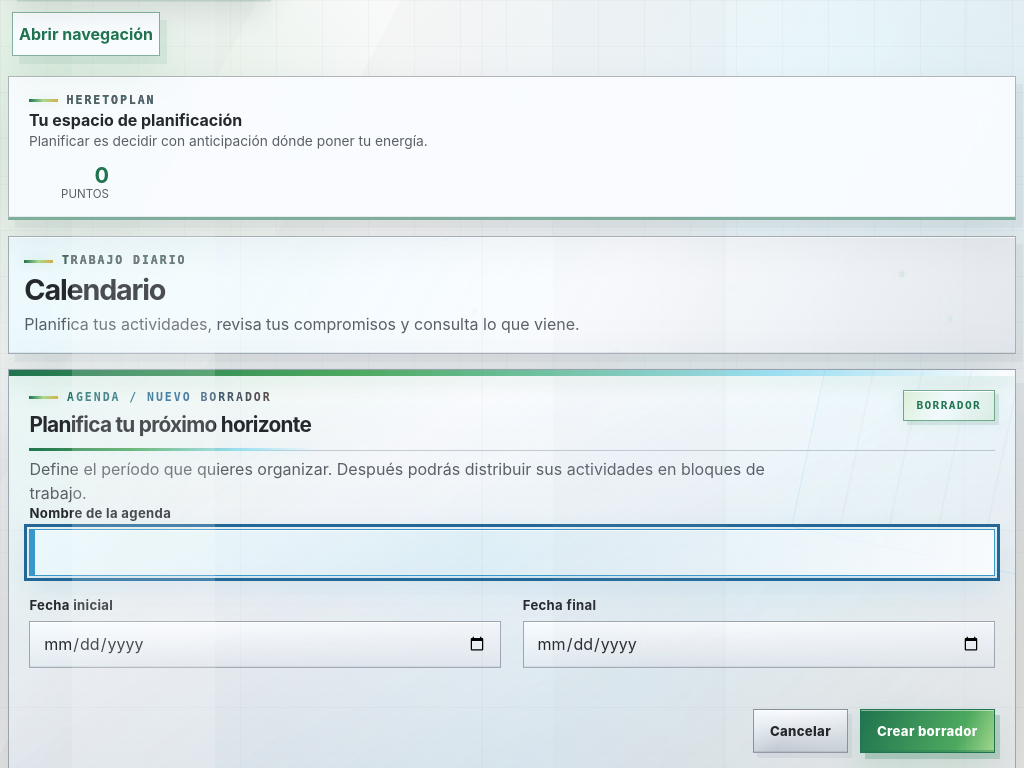
Test: interfaz de agenda borrador › permite cancelar la creación y limpia el formulario
expect the heading "Planifica tu próximo horizonte" is shown: met, box [30,413,311,438]
Step 1. Type "Agenda temporal" into the field labelled "Nombre de la agenda" → (512, 552), box [30,529,995,576]
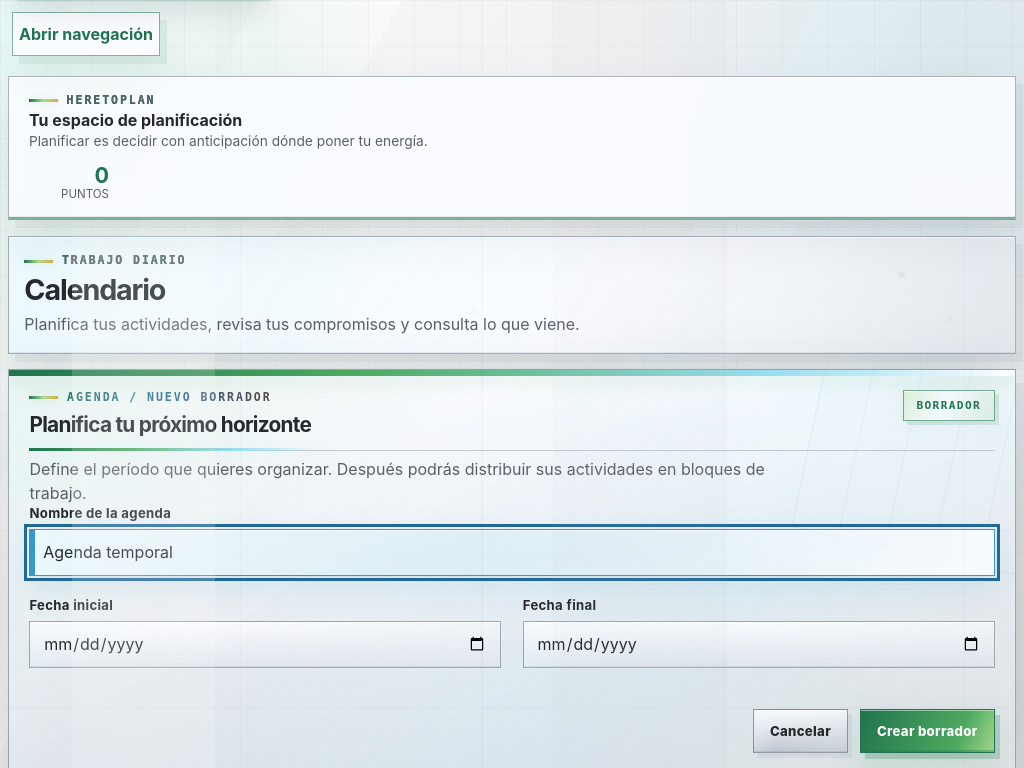
Step 2. Click the button "Cancelar" → (800, 731), box [753,709,848,753]
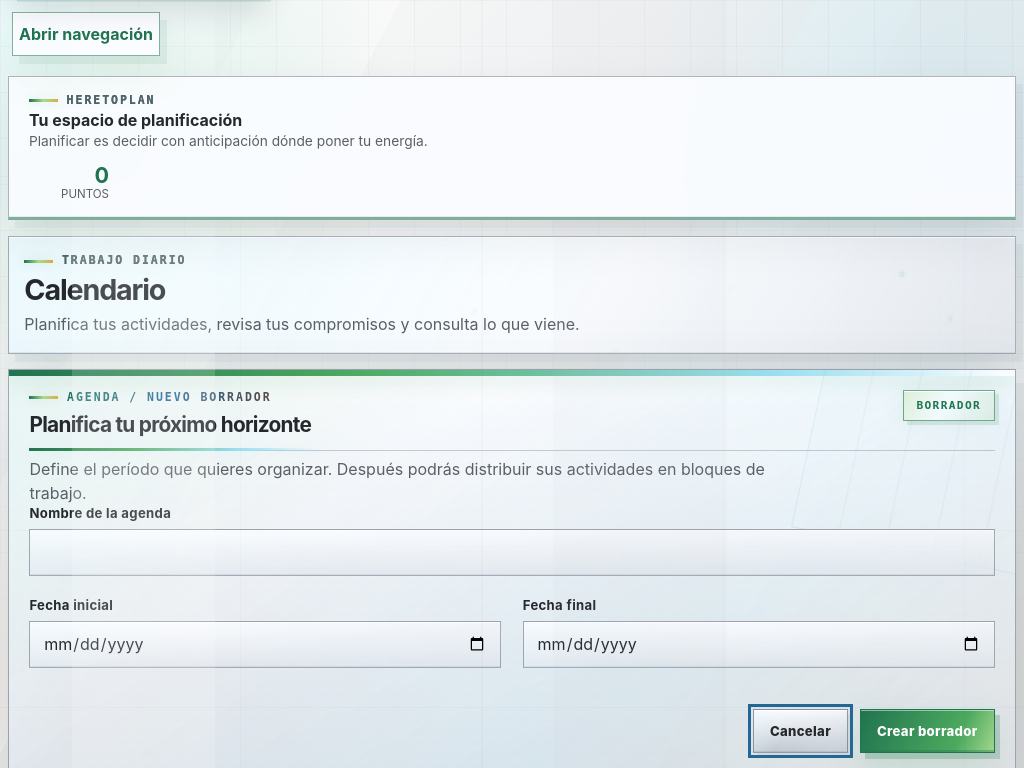
expect the field labelled "Nombre de la agenda" is empty: met, box [30,529,995,576]
